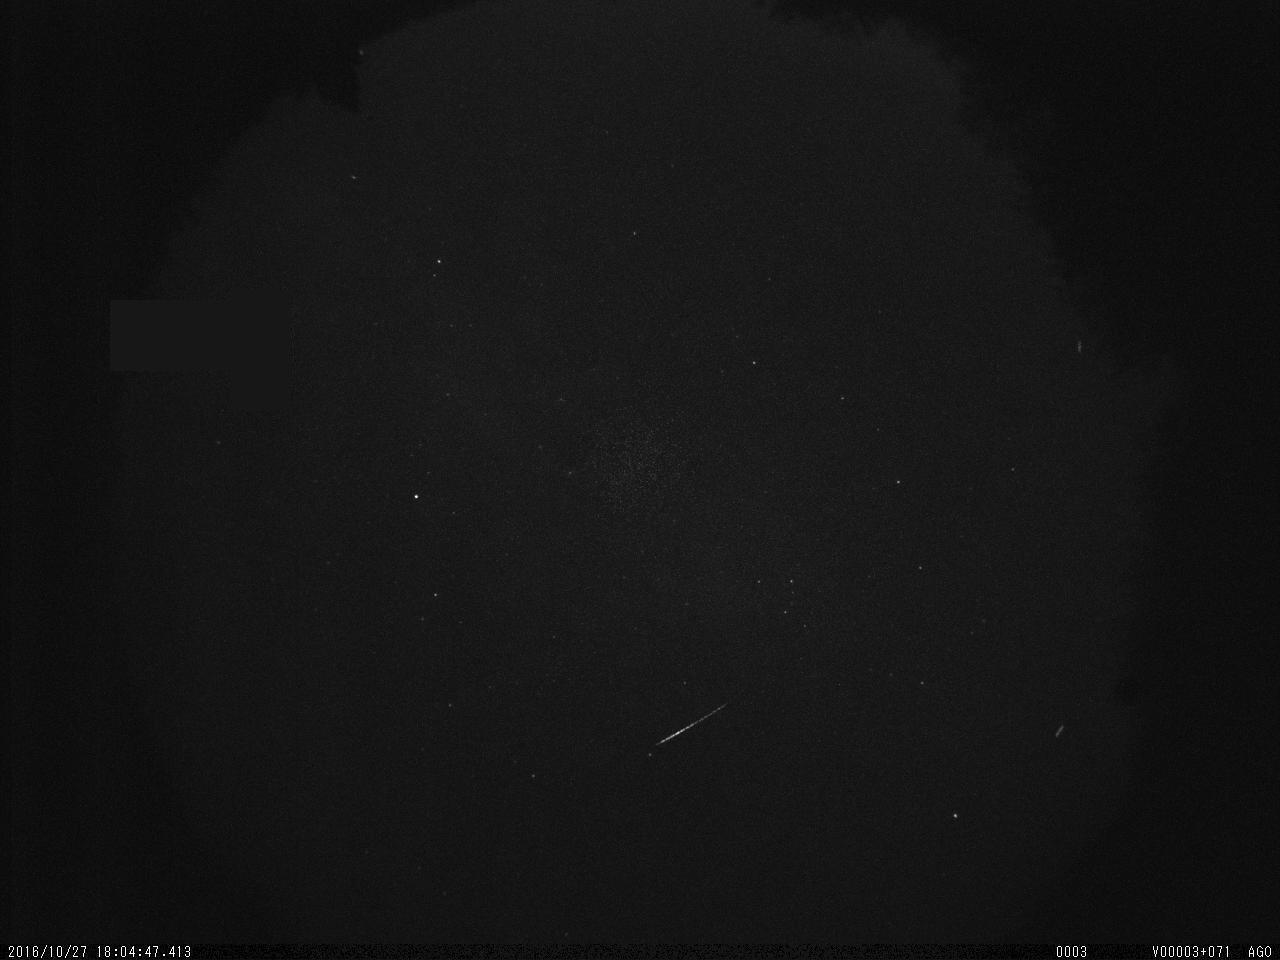meteor: (652, 677, 757, 757)
